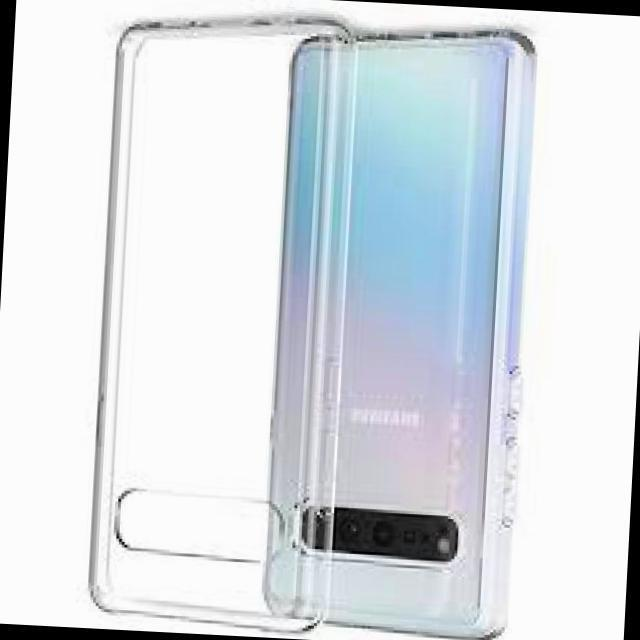lens: (294, 492, 468, 570)
phone: (255, 16, 541, 640)
